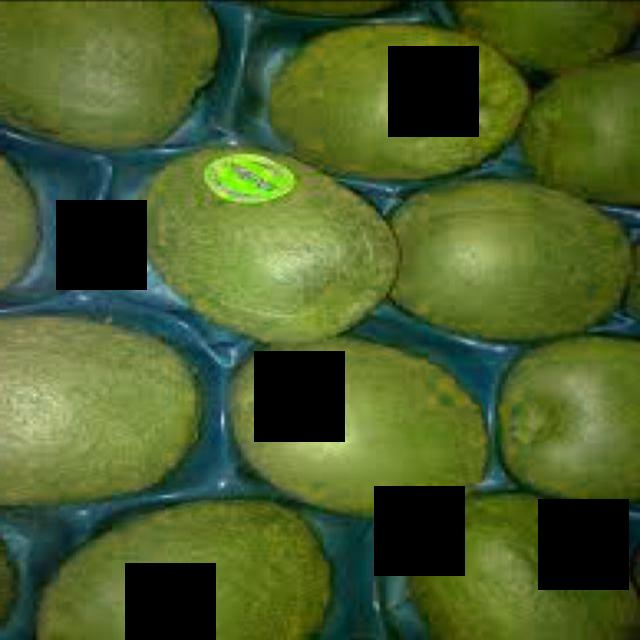kiwi: (133, 147, 400, 350), (222, 332, 493, 523), (27, 495, 344, 639), (262, 21, 533, 182), (377, 177, 638, 342), (5, 313, 206, 508), (397, 488, 638, 639), (2, 3, 232, 157), (499, 327, 638, 513), (522, 50, 638, 211)
